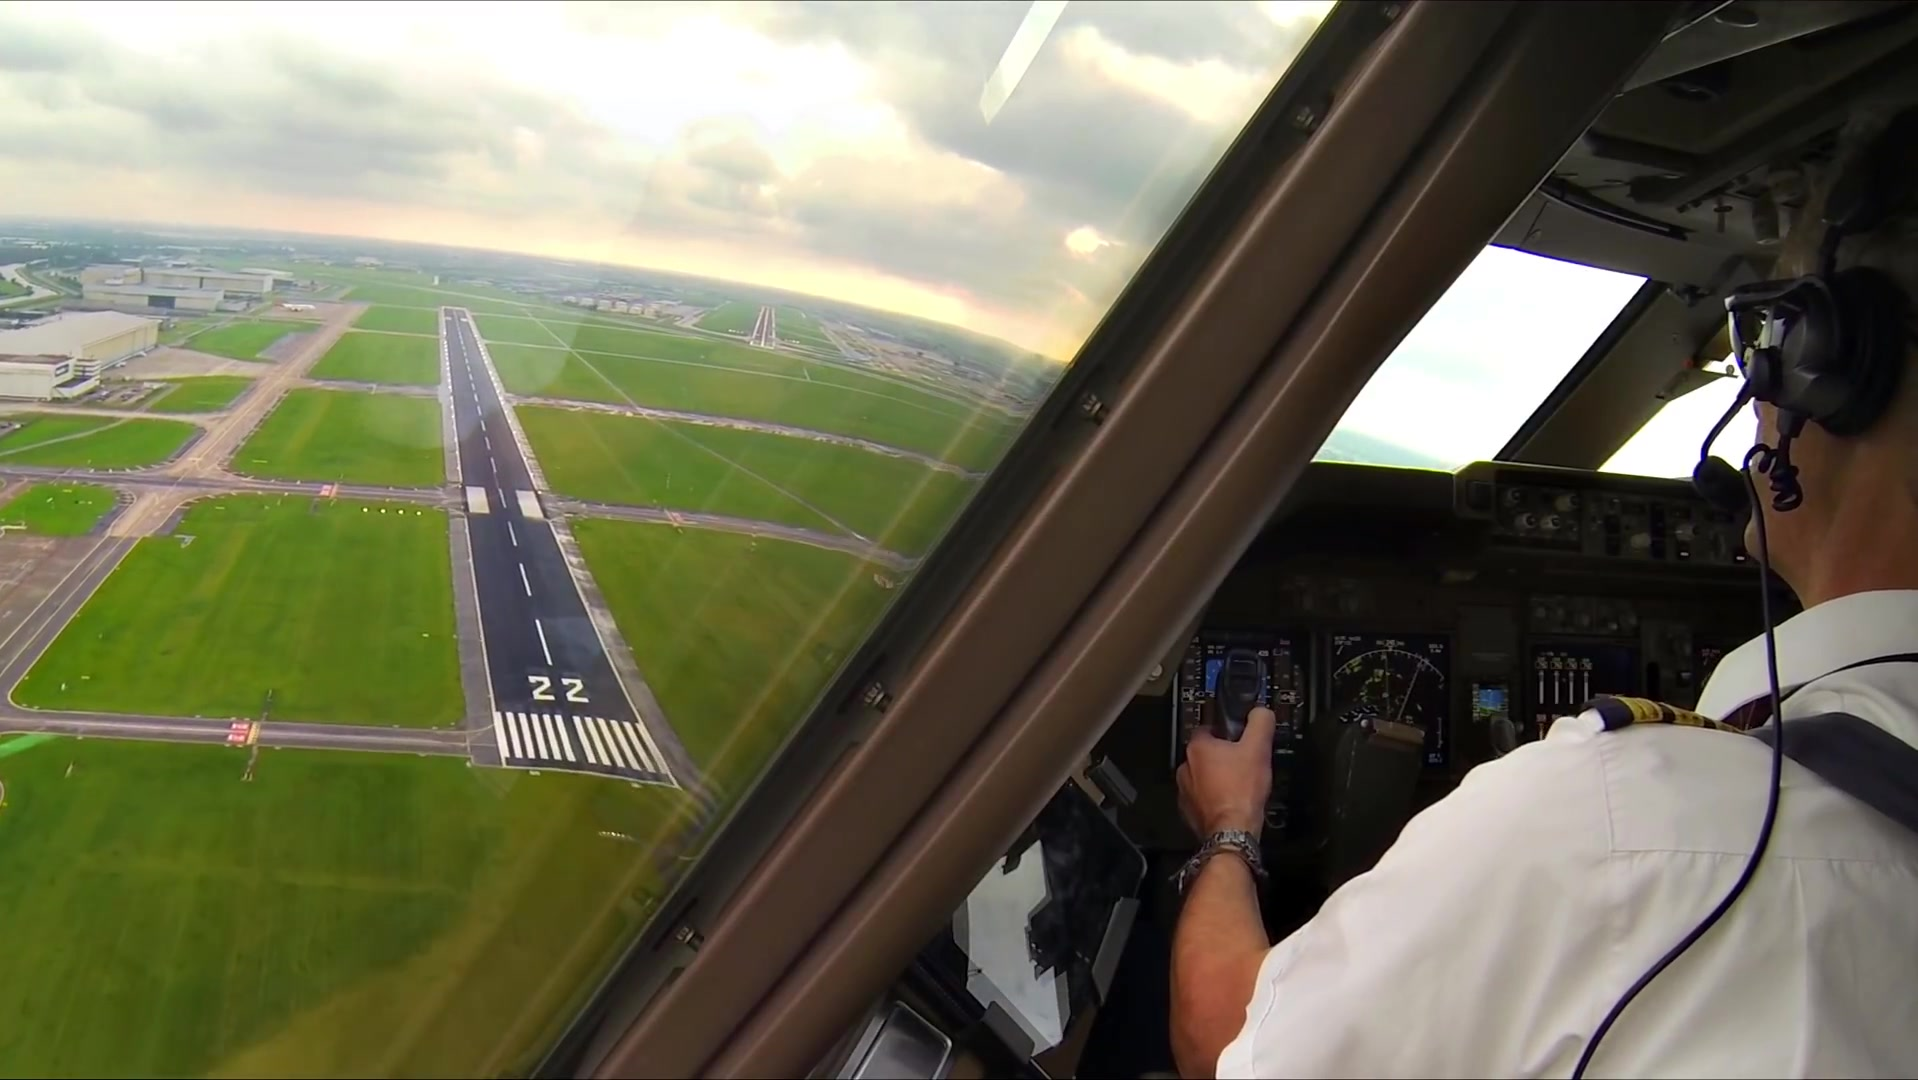entrance: (494, 710, 667, 770)
runway: (393, 300, 689, 794), (743, 300, 782, 350)
